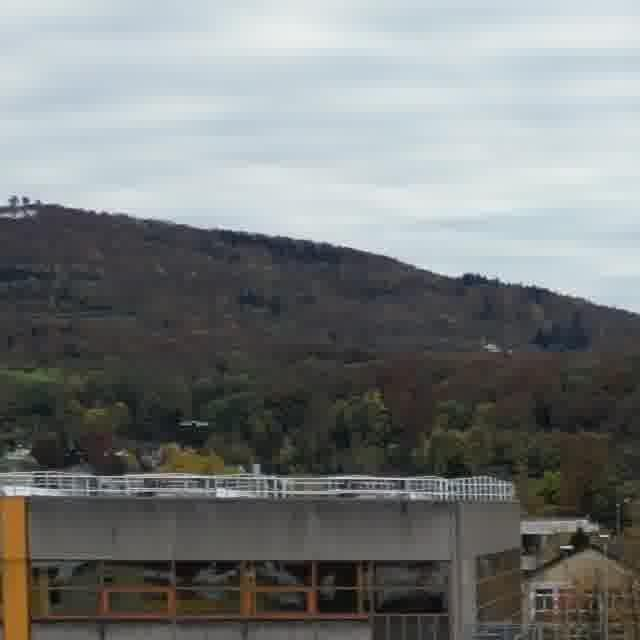Drohne: (180, 419, 208, 427)
